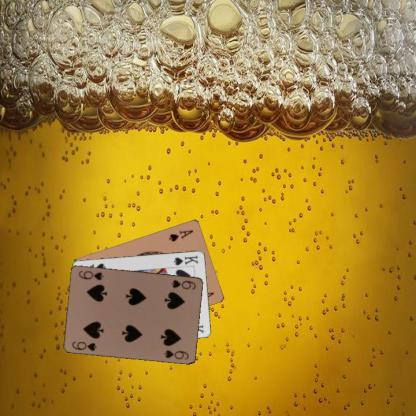6s: (69, 338, 98, 352), (169, 277, 197, 291)
As: (166, 227, 195, 243)
Ks: (171, 252, 199, 266)
